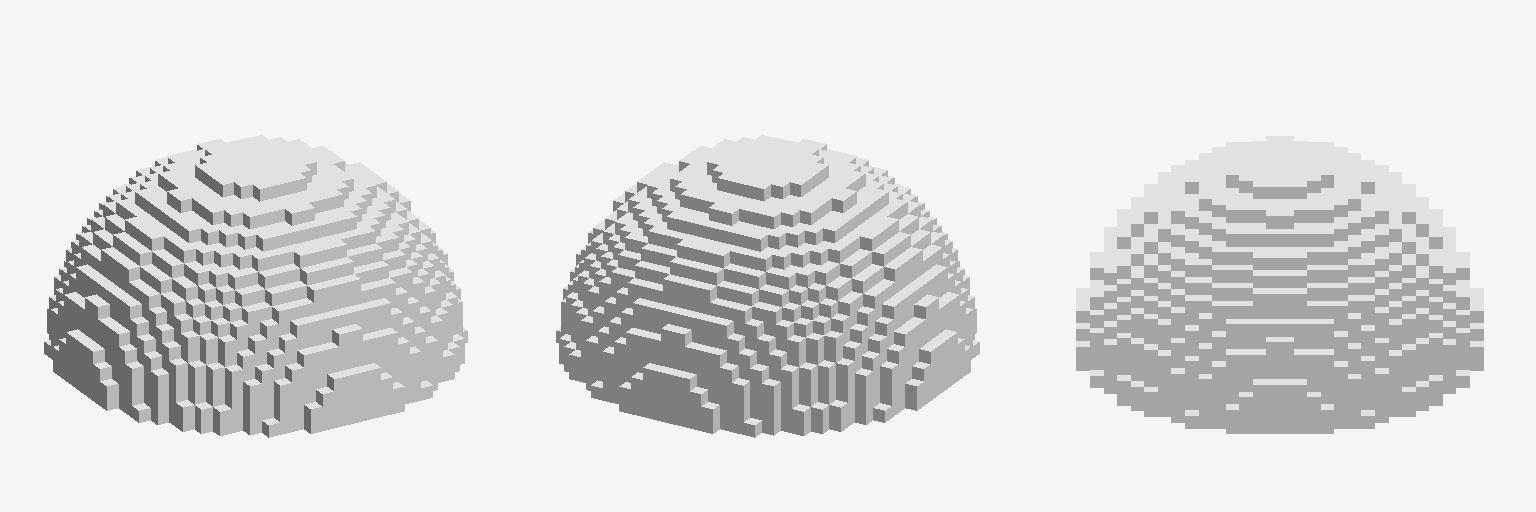
Rendered from factory4.3-20.obj.
3 renders of one model, left to right at view 1: azimuth 30°, elevation 25°; view 2: azimuth 150°, elevation 25°; view 3: azimuth 270°, elevation 25°, orthographic.
Parts seen in each view (by area): view 1: object 1; view 2: object 1; view 3: object 1.
Boxes of the visible parts, x1=… form: object 1: x1=44, y1=135, x2=467, y2=437; object 1: x1=556, y1=135, x2=979, y2=437; object 1: x1=1076, y1=136, x2=1483, y2=433.
Bounding box in the file's own units: 3 × 1.5 × 3.